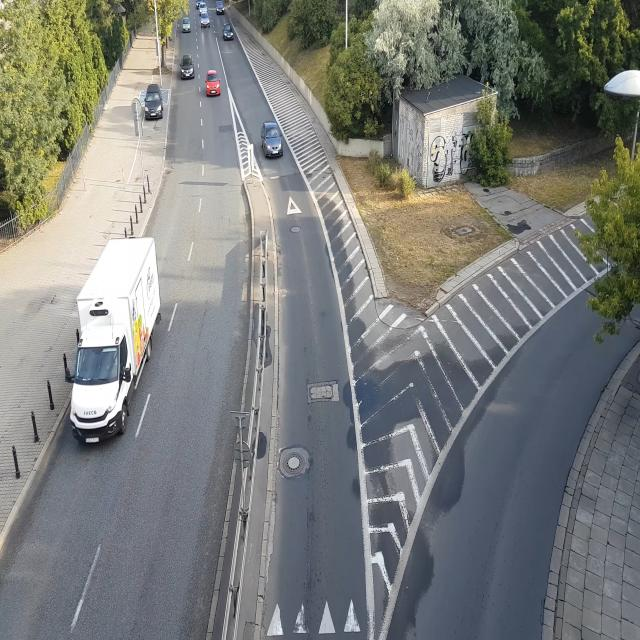car: (261, 120, 284, 160), (144, 85, 164, 118), (204, 73, 220, 97), (180, 61, 197, 80), (180, 13, 193, 37), (223, 26, 236, 40), (199, 16, 211, 28), (216, 2, 226, 15), (200, 3, 209, 14)
truck: (64, 212, 168, 453)
